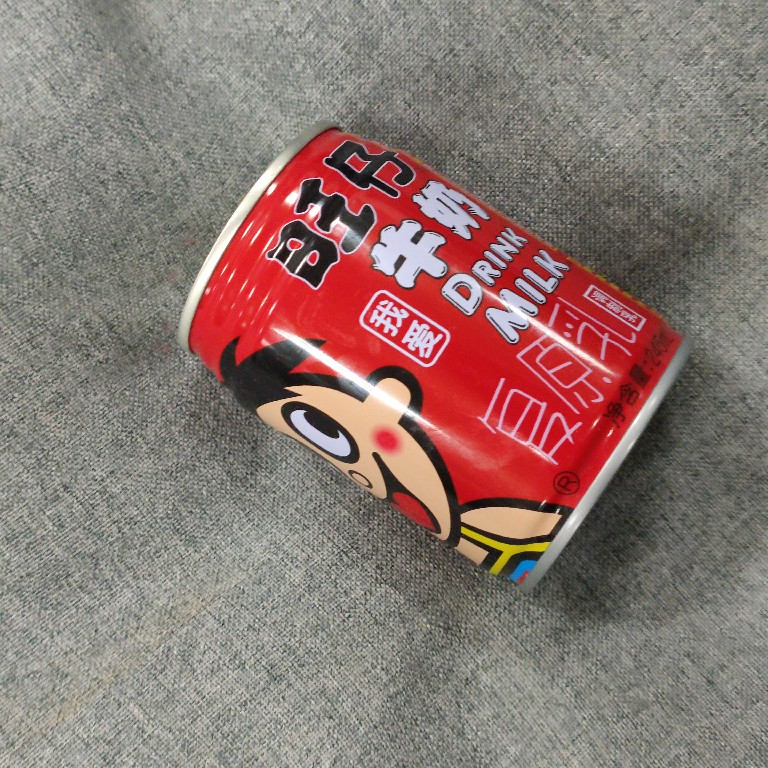can: (174, 119, 694, 597)
